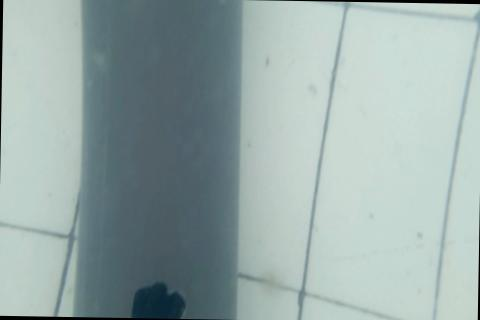kebocoran: (129, 279, 184, 318)
